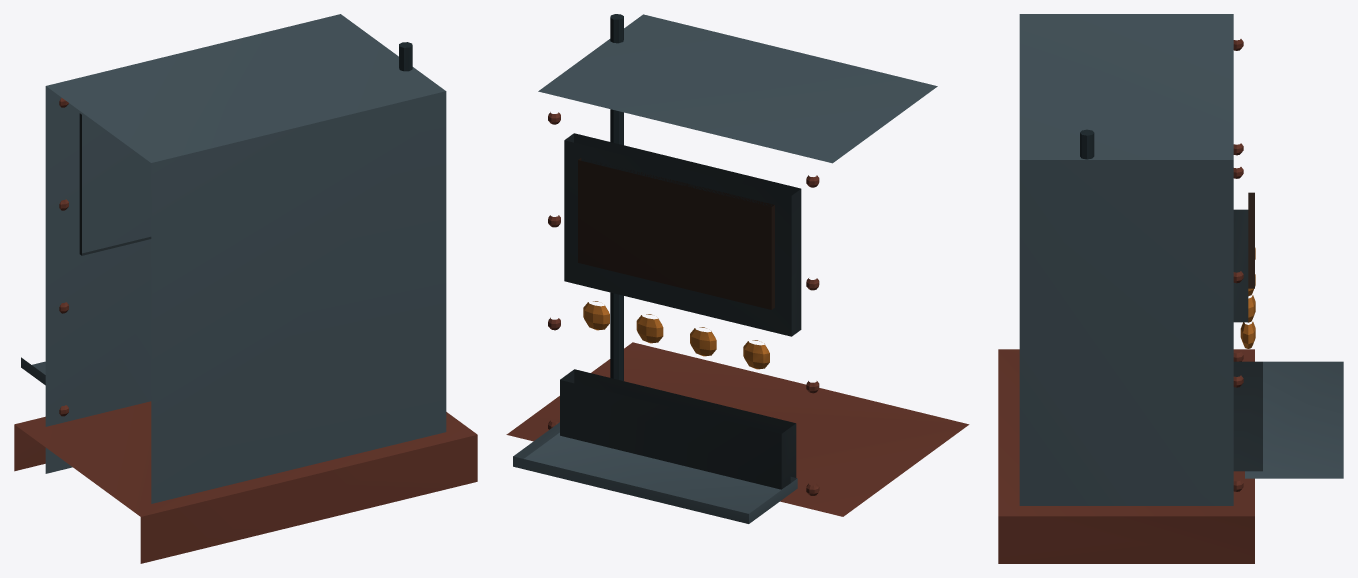
File: parts_cabinet.glb
3 views of the same model, side by side, from view 1: azimuth 30°, elevation 25°; view 2: azimuth 150°, elevation 25°; view 3: azimuth 270°, elevation 25° (orthographic).
Visible parts, largest first — view 1: RailPartsCabinet_Mesh; view 2: RailPartsCabinet_Mesh; view 3: RailPartsCabinet_Mesh.
Part boxes in pixels (x1,y1,x2,y2): RailPartsCabinet_Mesh: (14,14,477,563); RailPartsCabinet_Mesh: (506,14,969,523); RailPartsCabinet_Mesh: (998,14,1343,563).
Size of the model in its own units: 1.2 by 1.4 by 1.05.
